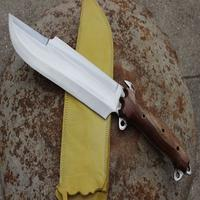knife: (3, 10, 183, 158)
